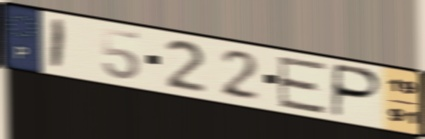2: (162, 39, 209, 95), (219, 47, 263, 103)
5: (100, 26, 142, 82)
E: (275, 55, 330, 116)
I: (48, 16, 69, 72)
P: (329, 62, 385, 120)
